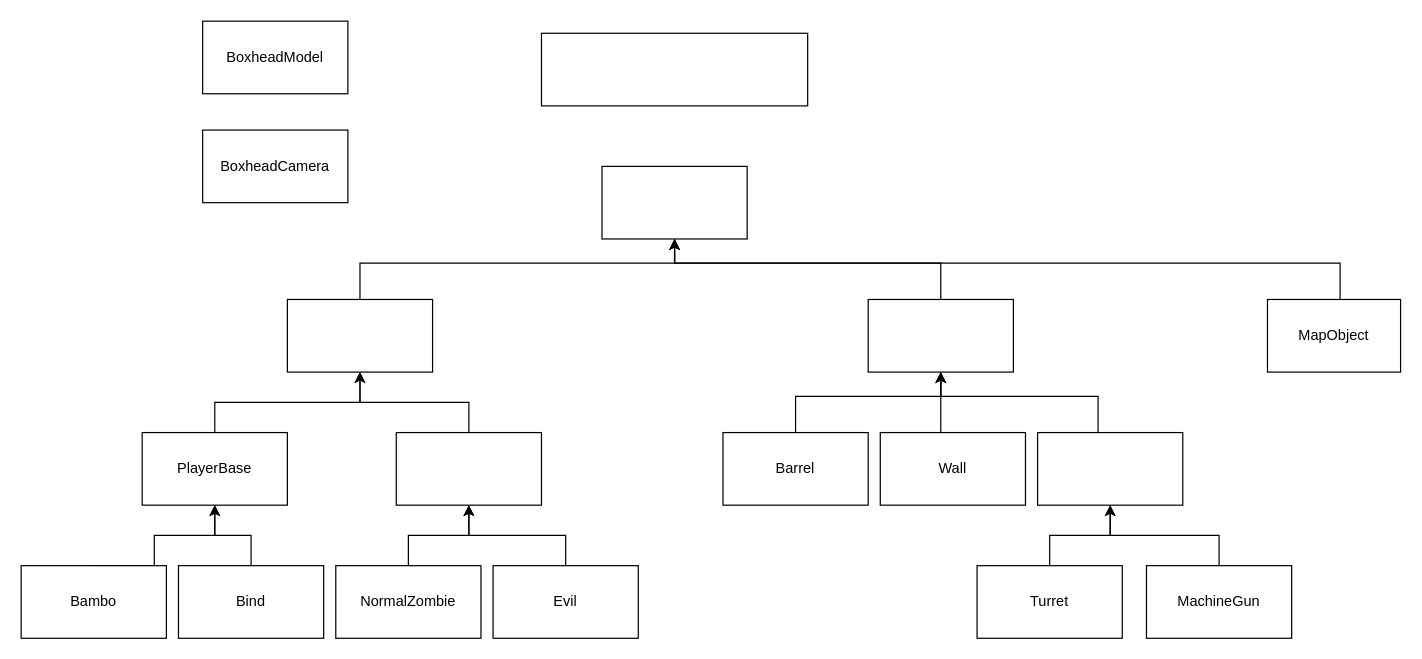
The diagram is 1422 pixels wide and 659 high, and some of its shapes have lost their labels. Each missing label, with the box of its shape:
Actor: (286, 298, 433, 372)
BObject: (601, 165, 747, 239)
BoxheadModelImporter: (540, 32, 808, 106)
Machine: (1036, 431, 1183, 505)
MapCellObject: (867, 298, 1013, 372)
MonsterBase: (395, 431, 541, 505)
